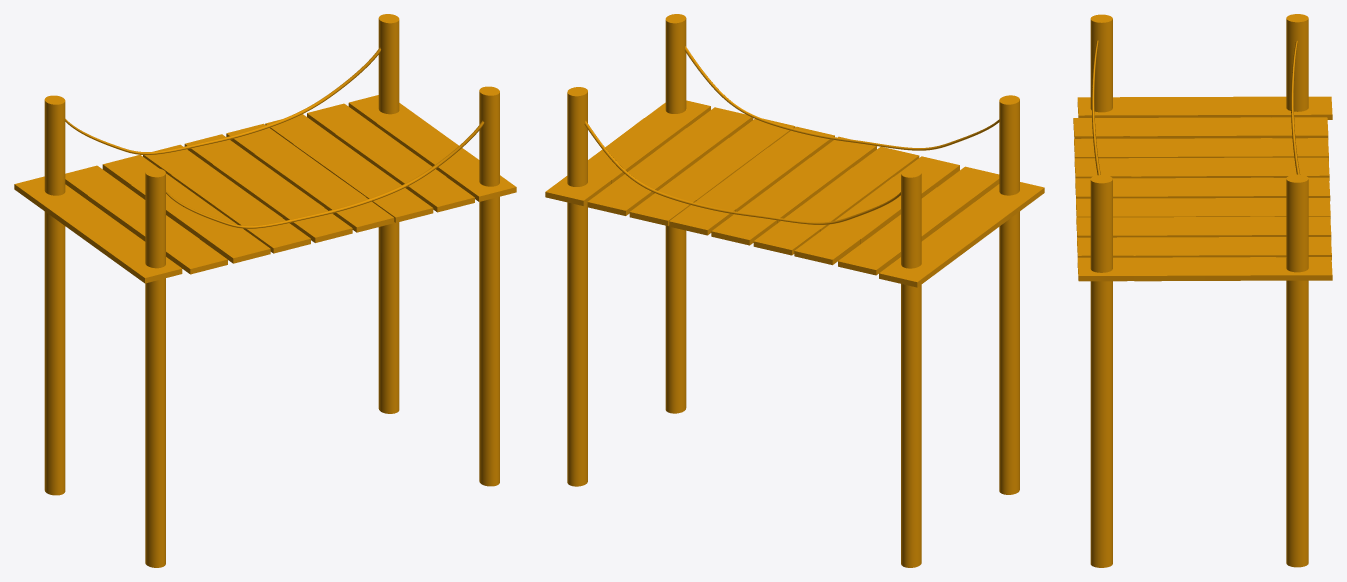
File: dock08.fbx
3 renders of one model, left to right at view 1: azimuth 30°, elevation 25°; view 2: azimuth 150°, elevation 25°; view 3: azimuth 270°, elevation 25°, orthographic.
Visible parts, largest first — view 1: polySurface41; view 2: polySurface41; view 3: polySurface41.
Boxes of the visible parts, x1=… form: polySurface41: x1=14, y1=14, x2=516, y2=567; polySurface41: x1=545, y1=14, x2=1044, y2=567; polySurface41: x1=1073, y1=14, x2=1332, y2=567.
Bounding box in the file's own units: 5.22 × 5.22 × 3.19.
